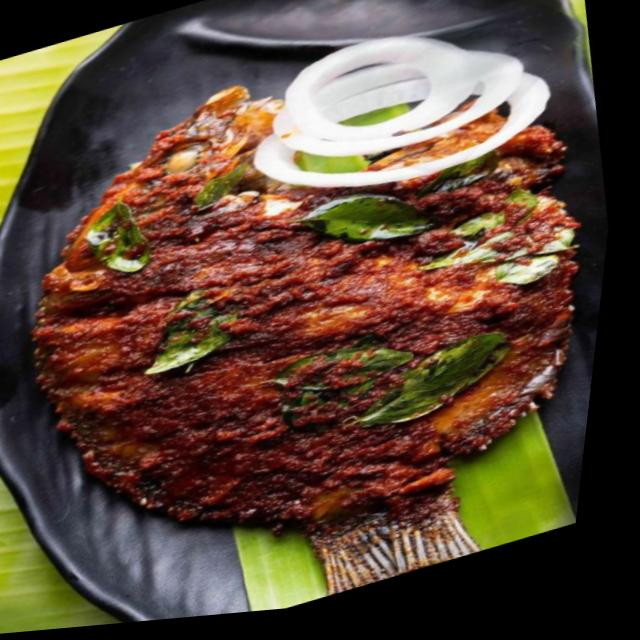FISH FRY: (4, 0, 603, 629)
